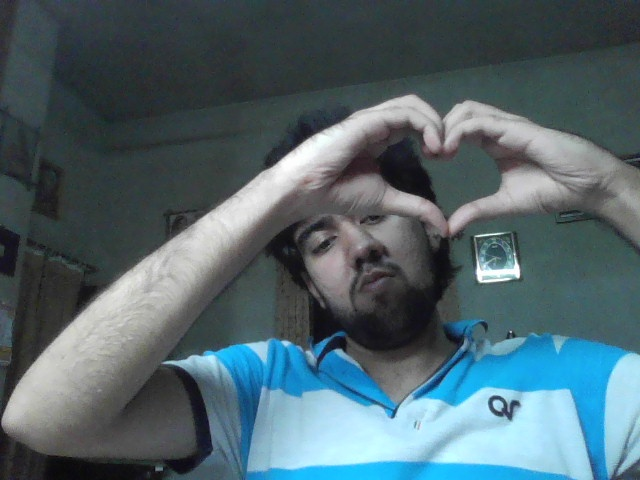Love: (307, 93, 595, 237)
